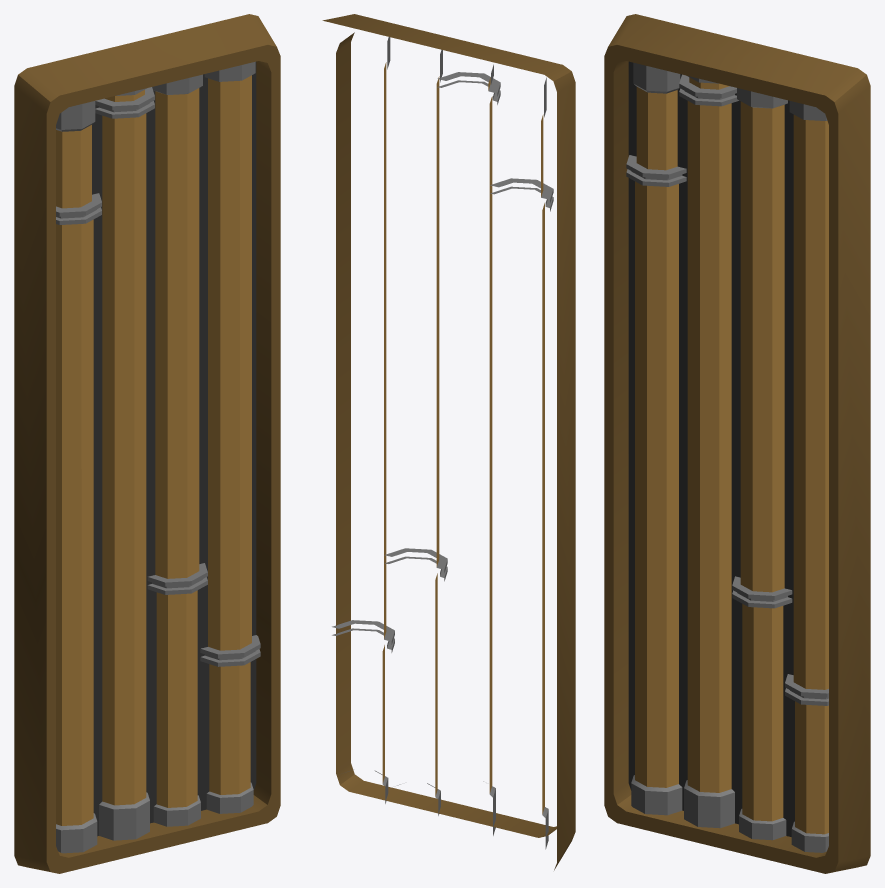
File: Details_Pipes_Long.glb
3 renders of one model, left to right at view 1: azimuth 30°, elevation 25°; view 2: azimuth 150°, elevation 25°; view 3: azimuth 330°, elevation 25°, orthographic.
Visible parts, largest first — view 1: Details_Pipes_Long; view 2: Details_Pipes_Long; view 3: Details_Pipes_Long.
Boxes of the visible parts, <box> form: Details_Pipes_Long: <box>14,14,280,873</box>; Details_Pipes_Long: <box>322,14,575,870</box>; Details_Pipes_Long: <box>604,14,870,873</box>.
Bounding box in the file's own units: 0.5143 × 1.58 × 0.0932.
